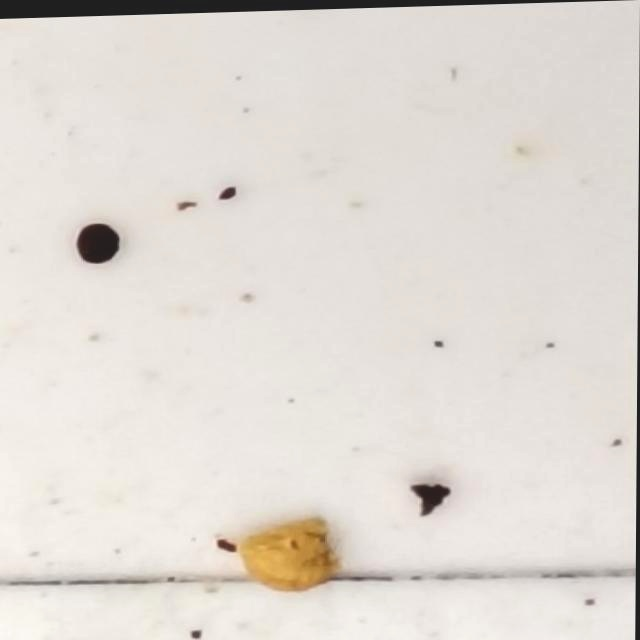varroa: (73, 220, 125, 268)
